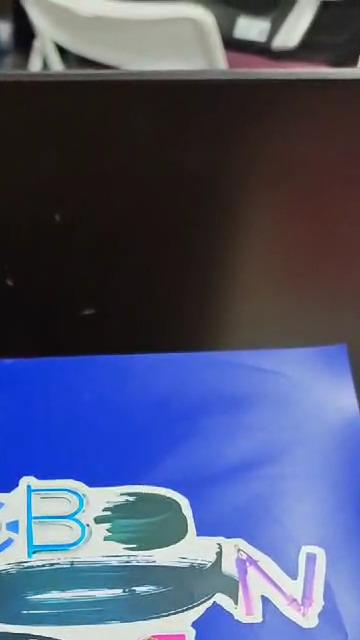B_R1: (0, 471, 327, 640)
